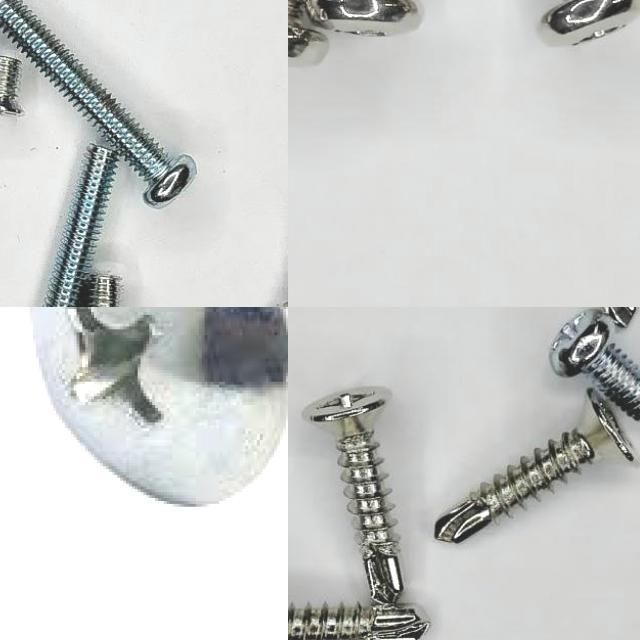Screw: (24, 307, 288, 510), (0, 0, 197, 207), (436, 390, 636, 543), (302, 388, 404, 606), (45, 145, 119, 307), (550, 311, 640, 420), (288, 604, 429, 640), (0, 57, 24, 116), (89, 276, 122, 307)
